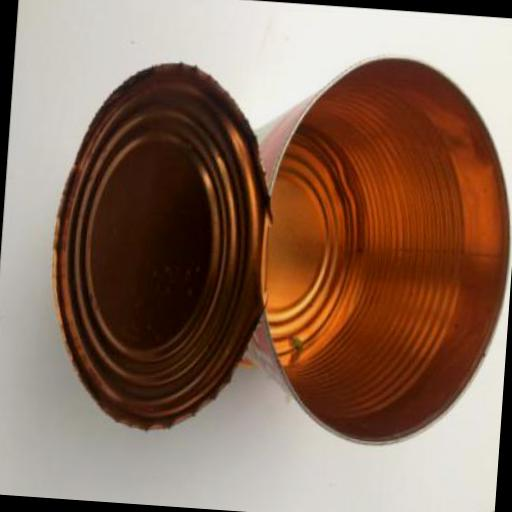metal: (251, 49, 512, 455), (40, 55, 282, 438)
